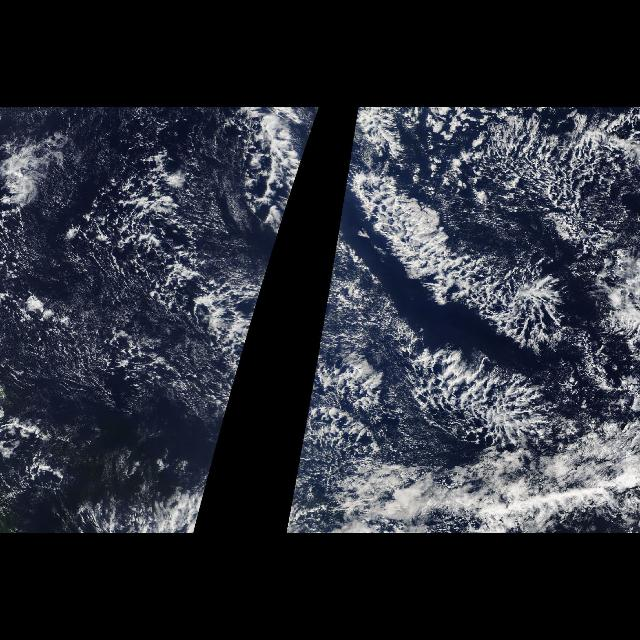Fish: (298, 108, 640, 466), (78, 108, 320, 466)
Gravel: (1, 108, 286, 422)
Sugar: (0, 285, 232, 419)
